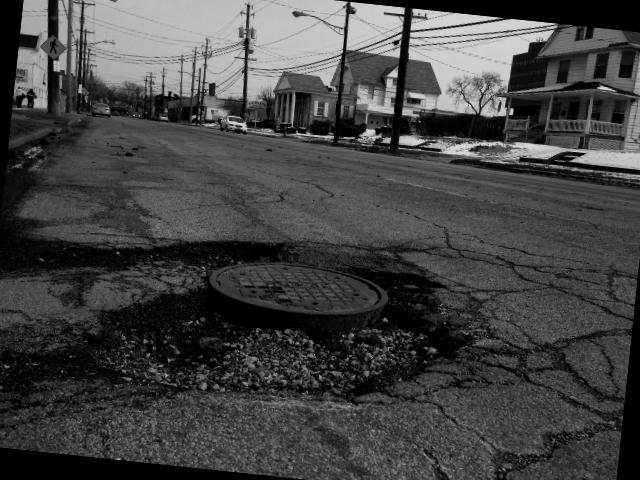Pothole: (0, 167, 495, 480)
